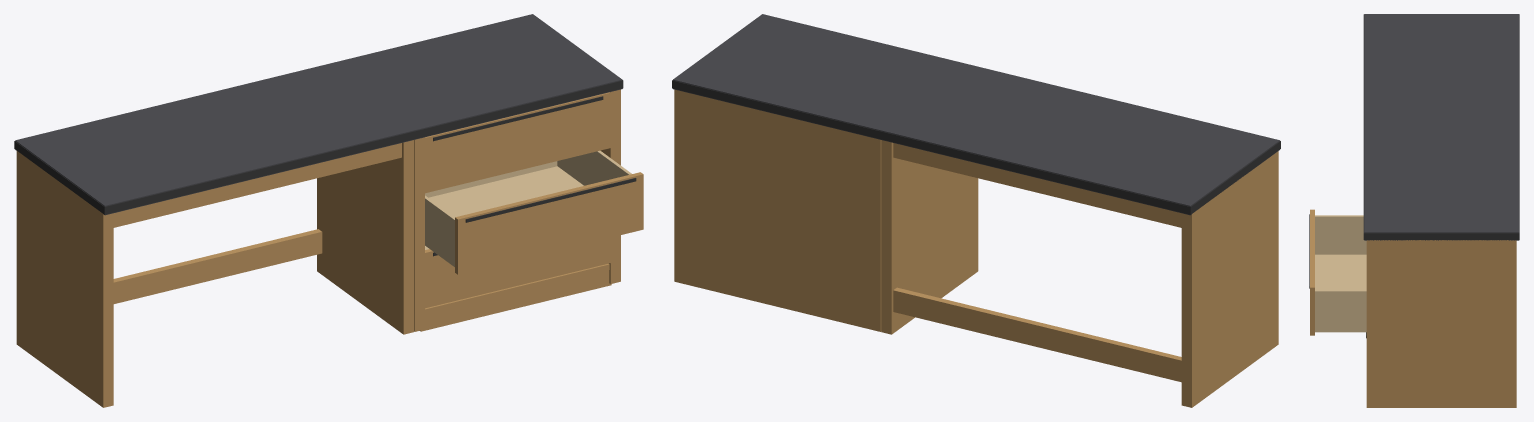
Rendered from woodlawn-8360fe07.glb.
The picture shows the model from 3 angles, left to right: view 1: azimuth 30°, elevation 25°; view 2: azimuth 150°, elevation 25°; view 3: azimuth 270°, elevation 25°; orthographic projection. The views are drawn at different scales.
Visible parts, largest first — view 1: Desk_Top, Desk_Side_L, Unit_Top, Desk_Side_R, Drawer2_Front, Drawer1_Front, Drawer3_Front, Desk_Stretcher_Back, Desk_Apron_Front, Drawer2_Bottom, Desk_Top_EdgeBand, Unit_Plinth (+9 smaller); view 2: Unit_Back, Desk_Top, Desk_Side_L, Unit_Top, Desk_Side_R, Desk_Stretcher_Back, Desk_Apron_Back, Desk_Top_EdgeBand, Unit_Side_L, Unit_Side_R, Unit_Top_EdgeBand; view 3: Unit_Side_R, Desk_Top, Unit_Top, Drawer2_Side_R, Drawer2_Bottom, Drawer2_Side_L, Unit_Top_EdgeBand, Drawer2_Front, Desk_Top_EdgeBand.
Boxes of the visible parts, x1,y1,x2,y2 form: Desk_Top: [15, 64, 415, 215]; Desk_Side_L: [16, 151, 113, 407]; Unit_Top: [326, 14, 622, 139]; Desk_Side_R: [317, 140, 413, 334]; Drawer2_Front: [455, 172, 643, 274]; Drawer1_Front: [425, 92, 610, 193]; Drawer3_Front: [425, 237, 610, 308]; Desk_Stretcher_Back: [113, 229, 322, 303]; Desk_Apron_Front: [113, 143, 401, 227]; Drawer2_Bottom: [425, 166, 583, 266]; Desk_Top_EdgeBand: [14, 131, 416, 214]; Unit_Plinth: [420, 270, 611, 331]; Unit_Back: [683, 92, 872, 329]; Desk_Top: [880, 64, 1279, 215]; Desk_Side_L: [1181, 151, 1278, 407]; Unit_Top: [673, 14, 968, 139]; Desk_Side_R: [881, 140, 978, 334]; Desk_Stretcher_Back: [893, 287, 1181, 382]; Desk_Apron_Back: [893, 143, 1181, 227]; Desk_Top_EdgeBand: [879, 131, 1280, 214]; Unit_Side_L: [870, 137, 881, 331]; Unit_Side_R: [674, 89, 684, 283]; Unit_Top_EdgeBand: [672, 80, 879, 138]; Unit_Side_R: [1366, 240, 1516, 407]; Desk_Top: [1364, 14, 1519, 144]; Unit_Top: [1364, 145, 1519, 240]; Drawer2_Side_R: [1315, 290, 1366, 332]; Drawer2_Bottom: [1315, 254, 1366, 332]; Drawer2_Side_L: [1315, 215, 1366, 254]; Unit_Top_EdgeBand: [1363, 146, 1519, 239]; Drawer2_Front: [1310, 209, 1314, 335]; Desk_Top_EdgeBand: [1363, 14, 1519, 145].
Bounding box in the file's own units: 2 × 0.76 × 0.815.
